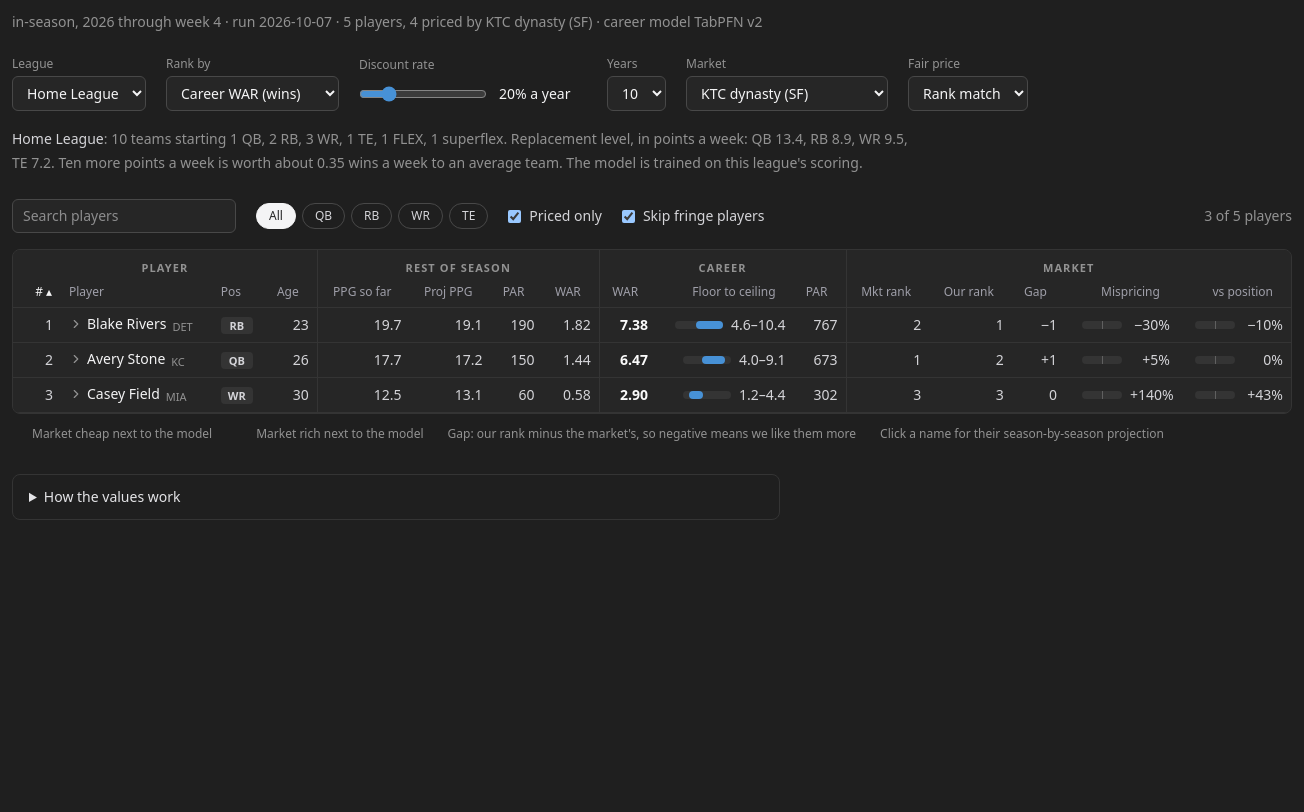
Test: Player values › opens a player's seasons under their row, valued in the board's league
The image size is (1304, 812).
What coordinates should you click on to do the following:
click the button "Avery Stone"
I would click on:
 (117, 359)
Its box is left=69, top=349, right=165, bottom=369.
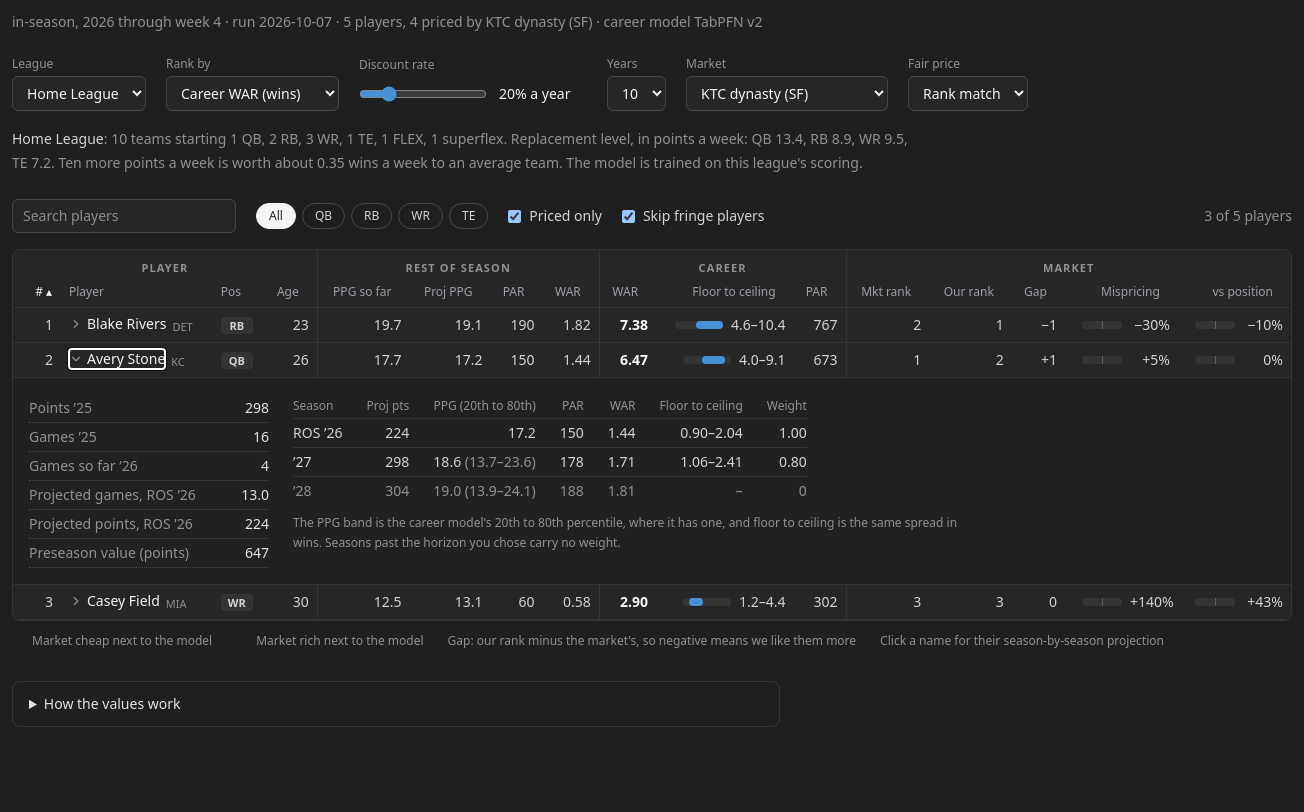
Result: the button "Avery Stone" is expanded
What coordinates should you click on to do the following:
click the button "Avery Stone"
I would click on:
 (117, 359)
Its box is left=69, top=349, right=165, bottom=369.
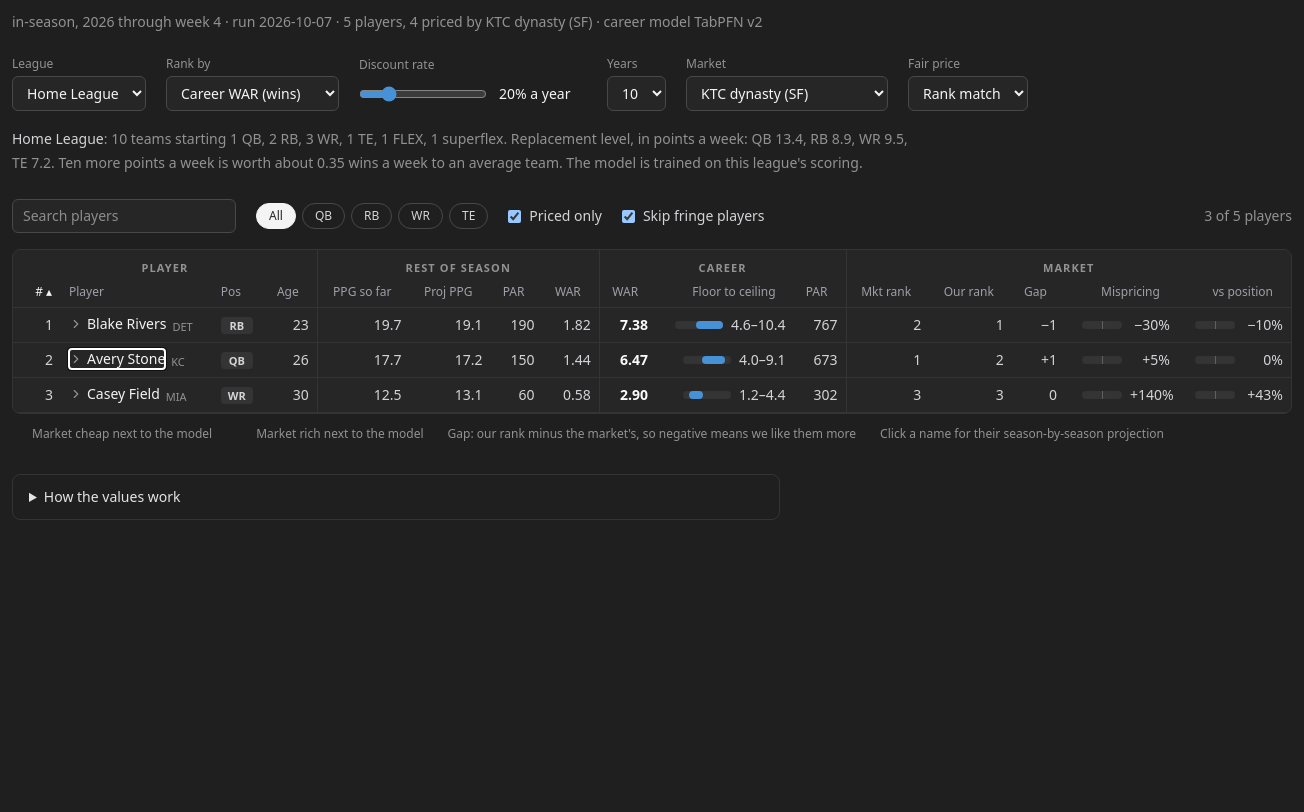
Expected: the table "Avery Stone, season by season" is not shown
Result: the button "Avery Stone" is collapsed at left=69, top=349, right=165, bottom=369
